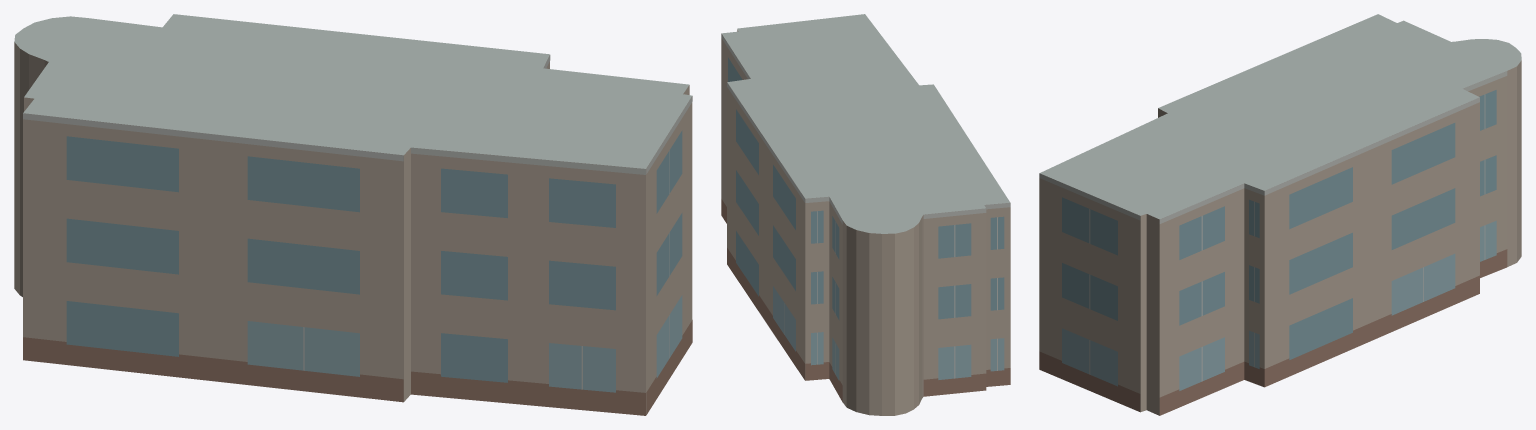
Rendered from survey-upis-32957370.glb.
3 views of the same model, side by side, from view 1: azimuth 30°, elevation 25°; view 2: azimuth 150°, elevation 25°; view 3: azimuth 270°, elevation 25° (orthographic). The views are drawn at different scales.
Visible parts, largest first — view 1: survey-upis-32957370.tmp; view 2: survey-upis-32957370.tmp; view 3: survey-upis-32957370.tmp.
Part boxes in pixels (box(x1,y1,x2,y2)): survey-upis-32957370.tmp: box(14, 14, 692, 415); survey-upis-32957370.tmp: box(721, 14, 1010, 415); survey-upis-32957370.tmp: box(1039, 14, 1521, 415).
Bounding box in the file's own units: 22.21 × 9.9 × 22.02.
